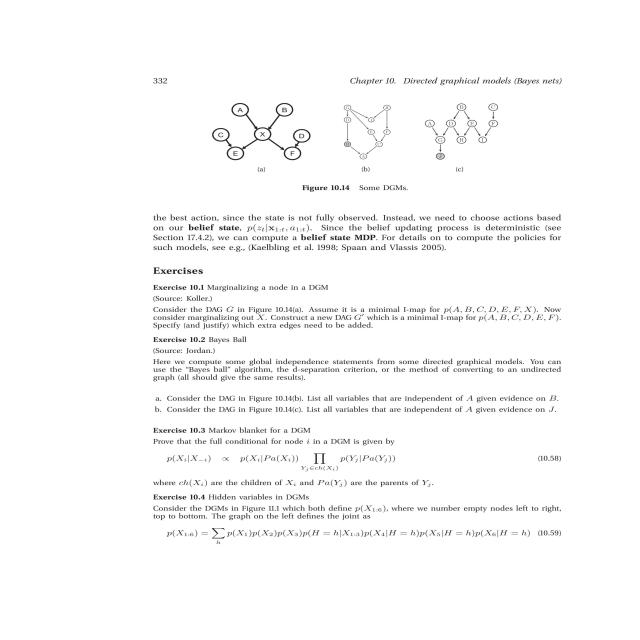diagram: (128, 86, 602, 202)
